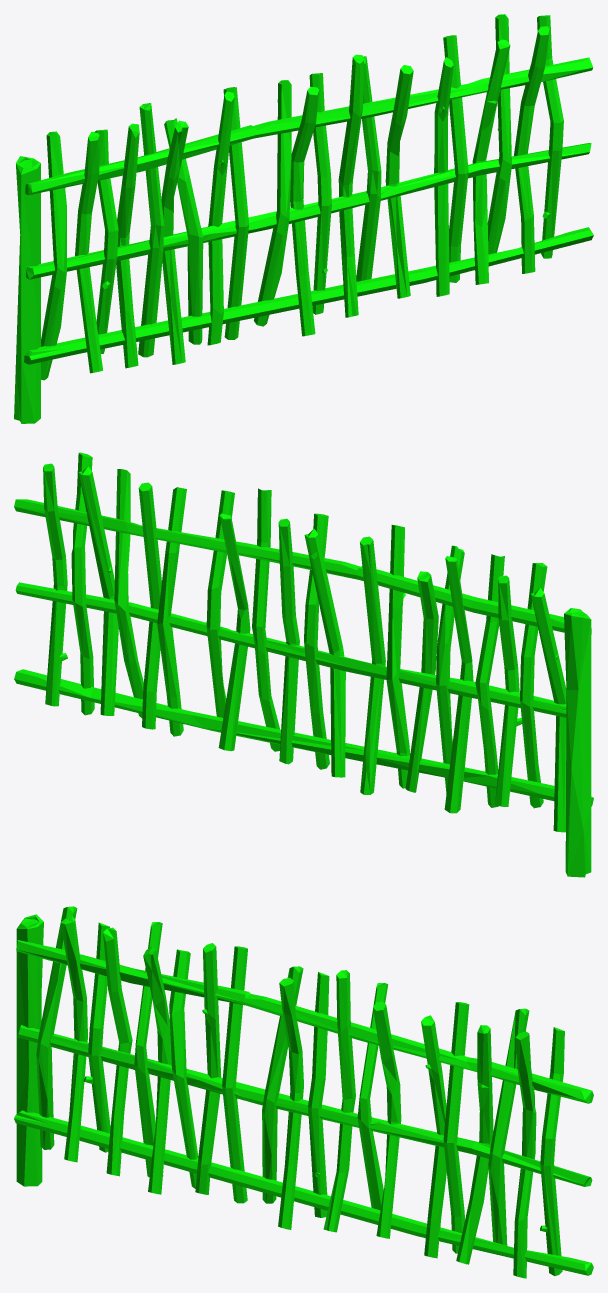
Rendered from SM_Fence_Stick_Weave_3m_B.fbx.
3 renders of one model, top to bottom at view 1: azimuth 30°, elevation 25°; view 2: azimuth 150°, elevation 25°; view 3: azimuth 330°, elevation 25°, orthographic.
Visible parts, largest first — view 1: fence-stick-weave-3m-b; view 2: fence-stick-weave-3m-b; view 3: fence-stick-weave-3m-b.
Part boxes in pixels (x1,y1,x2,y2): fence-stick-weave-3m-b: [14, 14, 593, 423]; fence-stick-weave-3m-b: [14, 452, 593, 877]; fence-stick-weave-3m-b: [14, 906, 593, 1278].
Size of the model in its own units: 3.15 by 1.55 by 0.2991.
